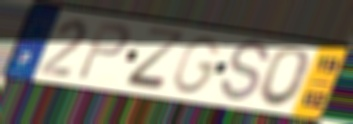2: (37, 17, 90, 81)
G: (170, 35, 224, 96)
O: (255, 45, 314, 109)
P: (74, 19, 134, 84)
S: (218, 38, 271, 106)
Z: (122, 25, 190, 94)
